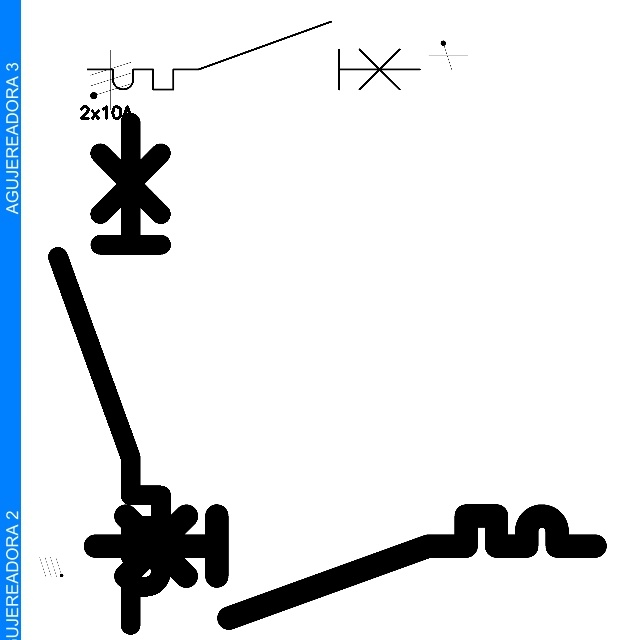interruptor_termomagnetico: (45, 109, 174, 637), (82, 503, 607, 631), (79, 13, 429, 98)
